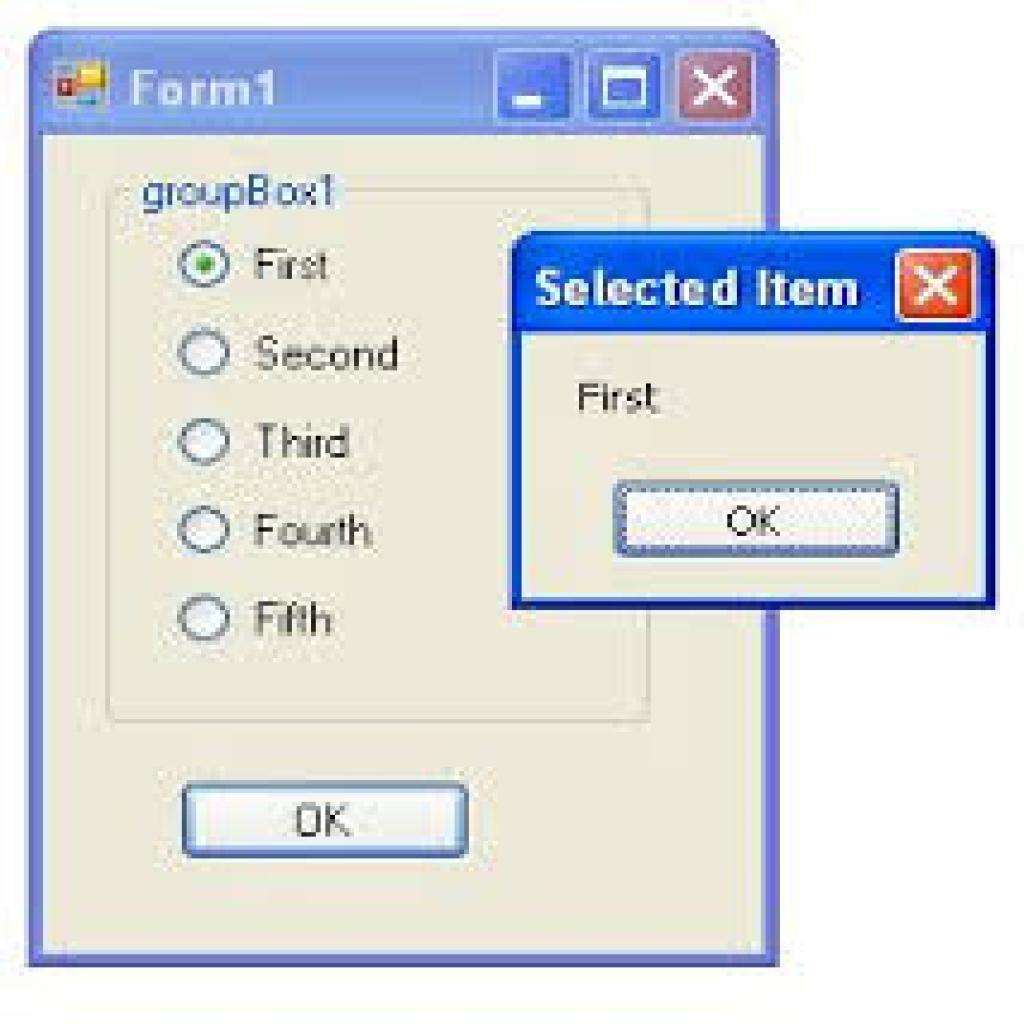button: (182, 787, 465, 856), (625, 489, 897, 556)
label: (142, 171, 345, 217), (245, 339, 408, 381), (251, 507, 372, 553), (247, 595, 343, 643), (249, 240, 344, 288), (573, 372, 666, 418), (254, 421, 352, 463)
radio: (175, 234, 240, 294), (179, 411, 232, 473), (181, 590, 232, 653), (179, 320, 230, 377), (179, 505, 235, 553)
